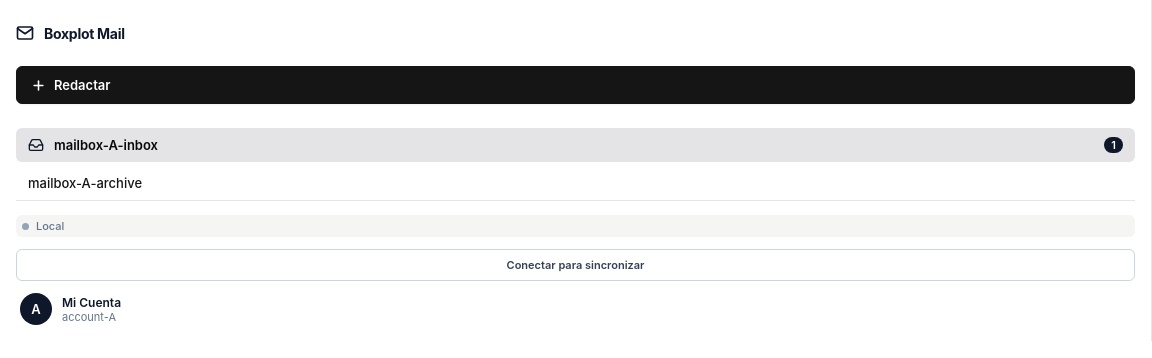
Scenario: Presentation and UI shell components › MailboxSidebar › shows Local reconnect availability but never reconnects a retained offline session
This screenshot has width=1152, height=358.
Step 1. Click the button with class "mailbox-sidebar__reconnect" → [576, 265], box [16, 249, 1135, 281]
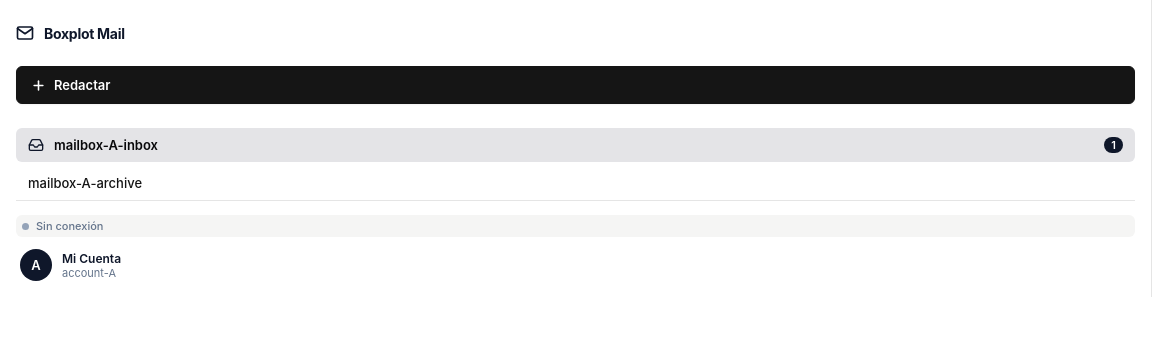
Now the text "Sin conexión" is shown, box [36, 219, 103, 233]
